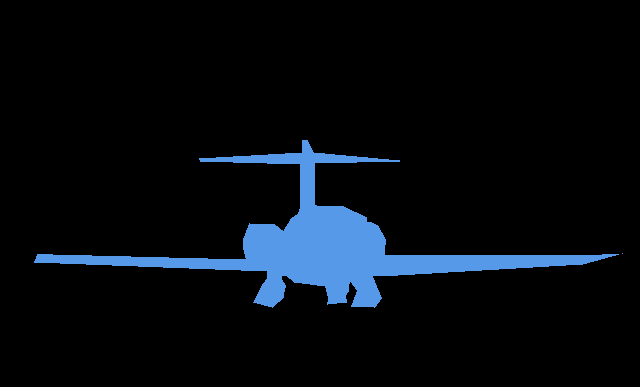Airplane: (34, 140, 623, 308)
